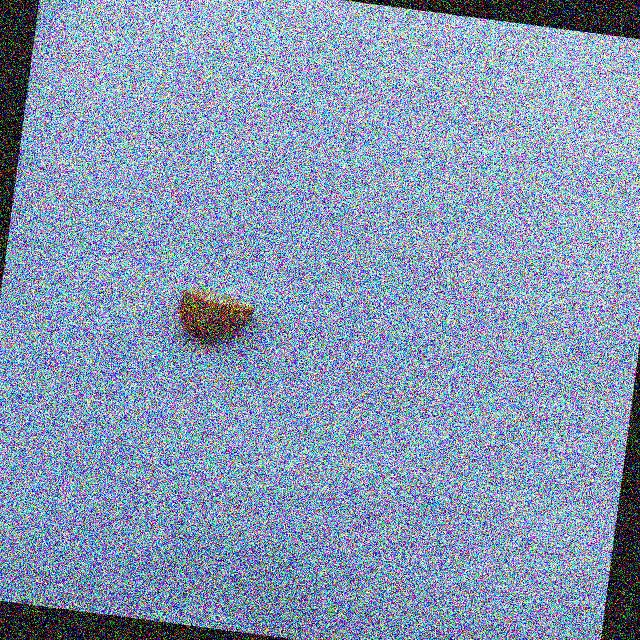grade4: (168, 280, 266, 354)
